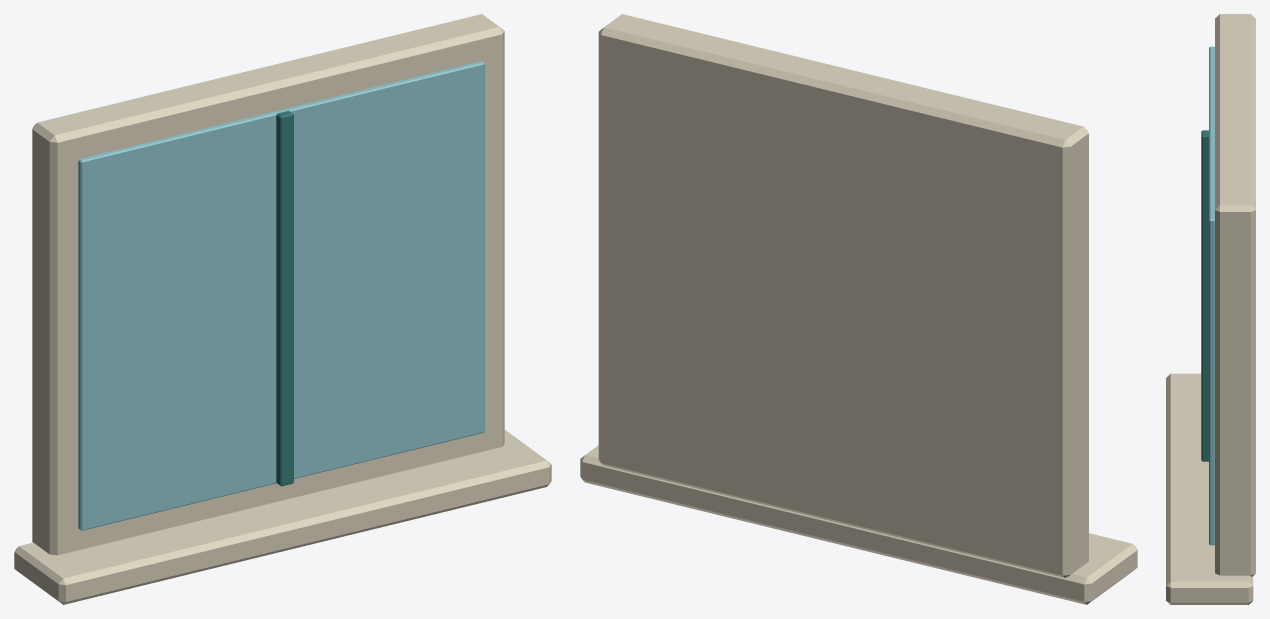
Rendered from Window_2m.fbx.
3 views of the same model, side by side, from view 1: azimuth 30°, elevation 25°; view 2: azimuth 150°, elevation 25°; view 3: azimuth 270°, elevation 25° (orthographic). The views are drawn at different scales.
Parts seen in each view (by area): view 1: Glass.001, Frame.006, Sill, Mullion; view 2: Frame.006, Sill; view 3: Frame.006, Sill, Glass.001, Mullion.
Boxes of the visible parts, bbox=[...] form: Glass.001: bbox=[78, 61, 484, 530]; Frame.006: bbox=[32, 14, 504, 555]; Sill: bbox=[14, 430, 551, 604]; Mullion: bbox=[276, 110, 293, 486]; Frame.006: bbox=[598, 14, 1088, 577]; Sill: bbox=[580, 445, 1137, 604]; Frame.006: bbox=[1215, 14, 1255, 576]; Sill: bbox=[1166, 373, 1253, 604]; Glass.001: bbox=[1209, 46, 1214, 545]; Mullion: bbox=[1201, 130, 1209, 461].
Size of the model in its own units: 1.95 by 1.68 by 0.35.
